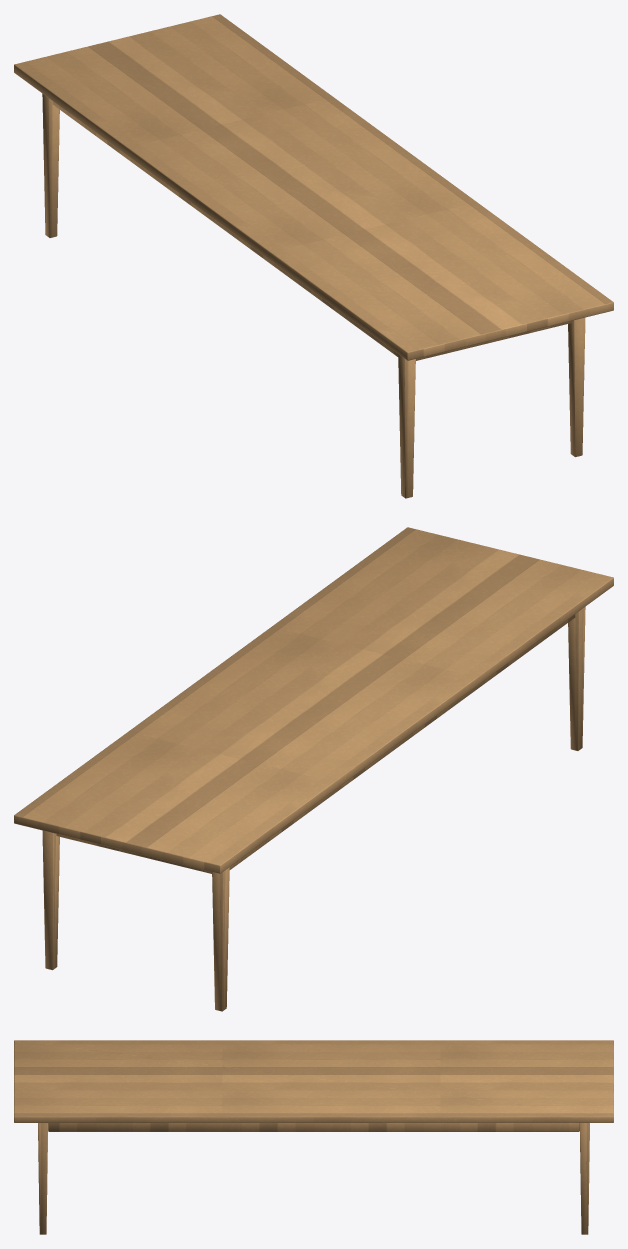
Rendered from display-table-oak.608fed35.glb.
3 views of the same model, one above another, from view 1: azimuth 30°, elevation 25°; view 2: azimuth 150°, elevation 25°; view 3: azimuth 270°, elevation 25° (orthographic). The views are drawn at different scales.
Visible parts, largest first — view 1: table-top, table-base; view 2: table-top, table-base; view 3: table-top, table-base.
Boxes of the visible parts, left/top/right/bottom form: table-top: left=14, top=14, right=613, bottom=360; table-base: left=42, top=93, right=585, bottom=498; table-top: left=14, top=527, right=613, bottom=873; table-base: left=42, top=606, right=585, bottom=1011; table-top: left=14, top=1040, right=613, bottom=1122; table-base: left=38, top=1123, right=589, bottom=1234.
Bounding box in the file's own units: 1 × 0.75 × 3.3.
1 material, 1 textured.
